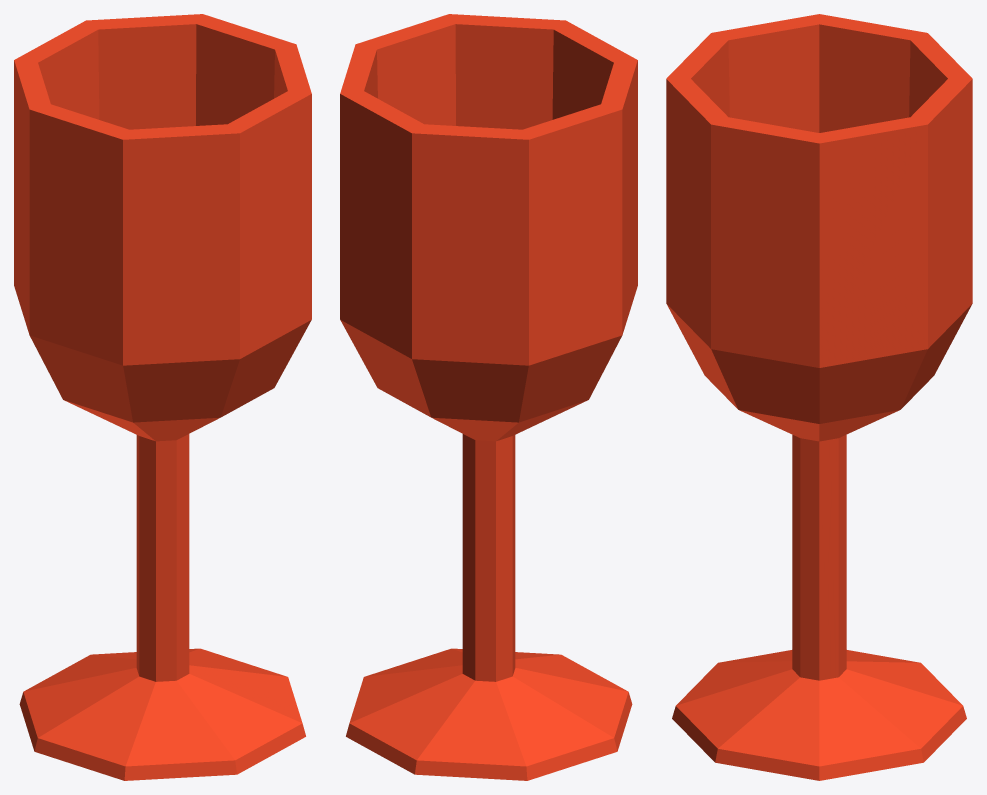
The model's file is SM_Vine_Glass_City.fbx.
The picture shows the model from 3 angles, left to right: view 1: azimuth 30°, elevation 25°; view 2: azimuth 150°, elevation 25°; view 3: azimuth 270°, elevation 25°; orthographic projection.
Visible parts, largest first — view 1: SM_Vine_Glass_City; view 2: SM_Vine_Glass_City; view 3: SM_Vine_Glass_City.
Boxes of the visible parts, x1,y1,x2,y2 form: SM_Vine_Glass_City: (14, 14, 311, 780); SM_Vine_Glass_City: (340, 14, 637, 780); SM_Vine_Glass_City: (666, 14, 972, 780).
Bounding box in the file's own units: 0.0966 × 0.2225 × 0.0966.
